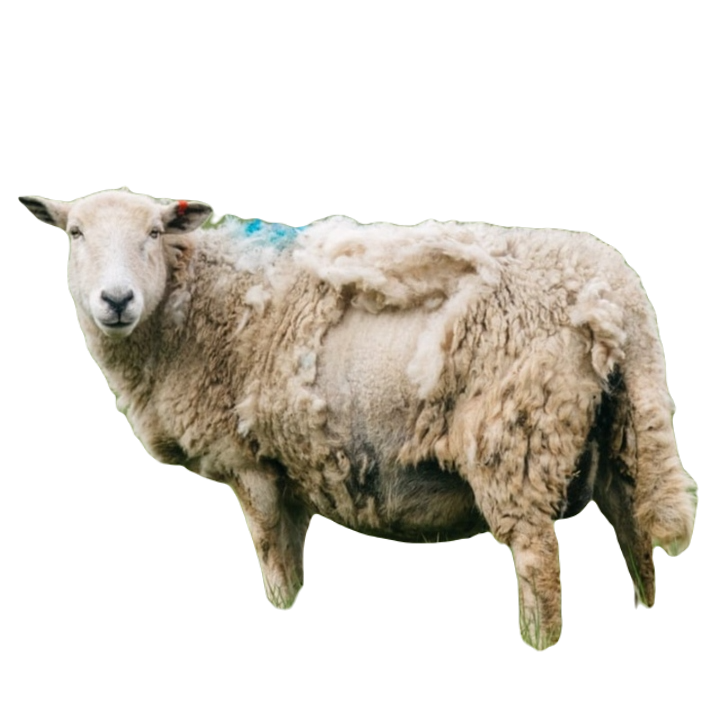Sheep: (10, 181, 701, 657)
